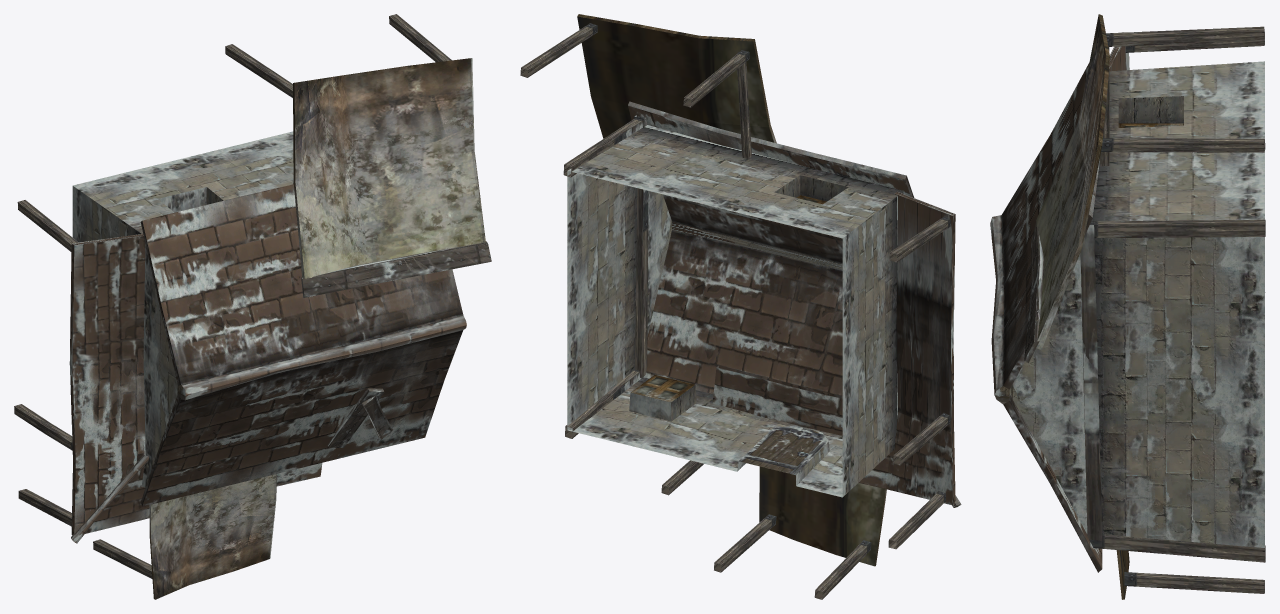
File: zhanchang_fuben_191_jiunongshe_01.obj
The picture shows the model from 3 angles, left to right: view 1: azimuth 30°, elevation 25°; view 2: azimuth 150°, elevation 25°; view 3: azimuth 270°, elevation 25°; orthographic projection. The views are drawn at different scales.
Parts seen in each view (by area): view 1: zhanchang_fuben_191_jiunongshe_01; view 2: zhanchang_fuben_191_jiunongshe_01; view 3: zhanchang_fuben_191_jiunongshe_01.
Part boxes in pixels (left/top/right/bottom): zhanchang_fuben_191_jiunongshe_01: left=14, top=14, right=491, bottom=599; zhanchang_fuben_191_jiunongshe_01: left=520, top=14, right=961, bottom=599; zhanchang_fuben_191_jiunongshe_01: left=990, top=14, right=1265, bottom=599.
Size of the model in its own units: 276 by 331 by 135.
Materials: 5 (5 with a texture image).
